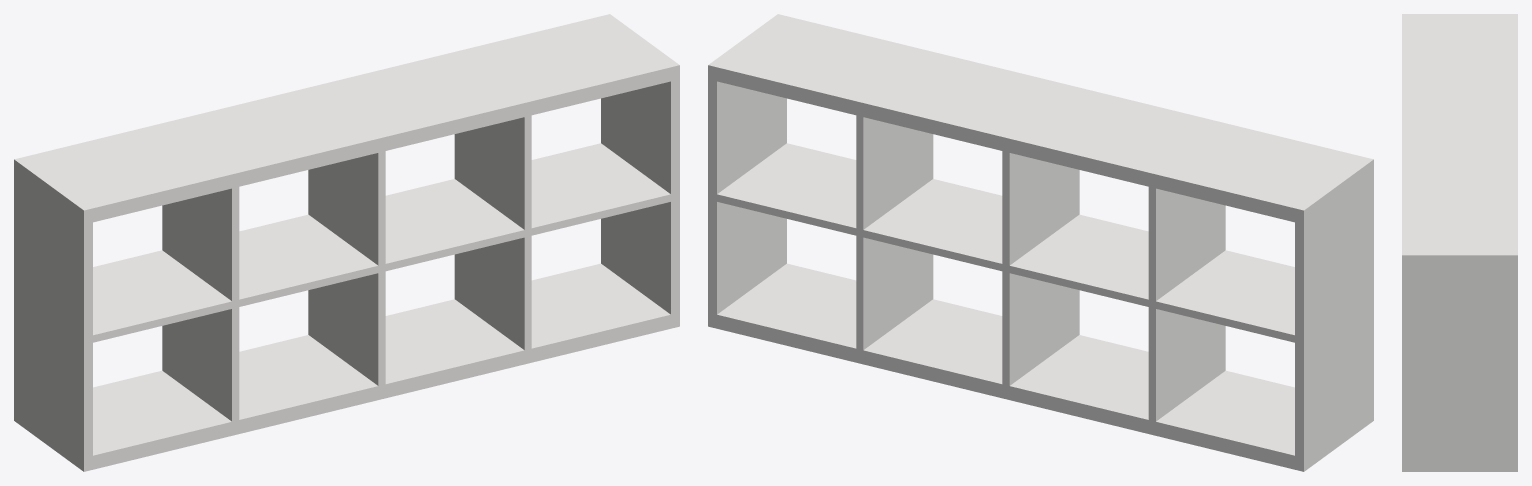
The model's file is Shelf_4.fbx.
3 views of the same model, side by side, from view 1: azimuth 30°, elevation 25°; view 2: azimuth 150°, elevation 25°; view 3: azimuth 270°, elevation 25° (orthographic). The views are drawn at different scales.
Visible parts, largest first — view 1: Shelf_4; view 2: Shelf_4; view 3: Shelf_4.
Boxes of the visible parts, x1=… form: Shelf_4: x1=14, y1=14, x2=679, y2=471; Shelf_4: x1=708, y1=14, x2=1373, y2=471; Shelf_4: x1=1402, y1=14, x2=1517, y2=471.
Size of the model in its own units: 226 by 45.89 by 94.72.
